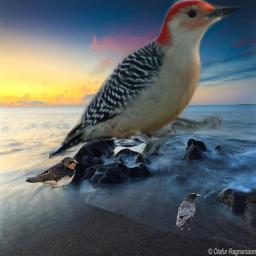Crow: (175, 193, 201, 230)
Swallow: (25, 156, 79, 190)
Woodpecker: (49, 0, 245, 159)
